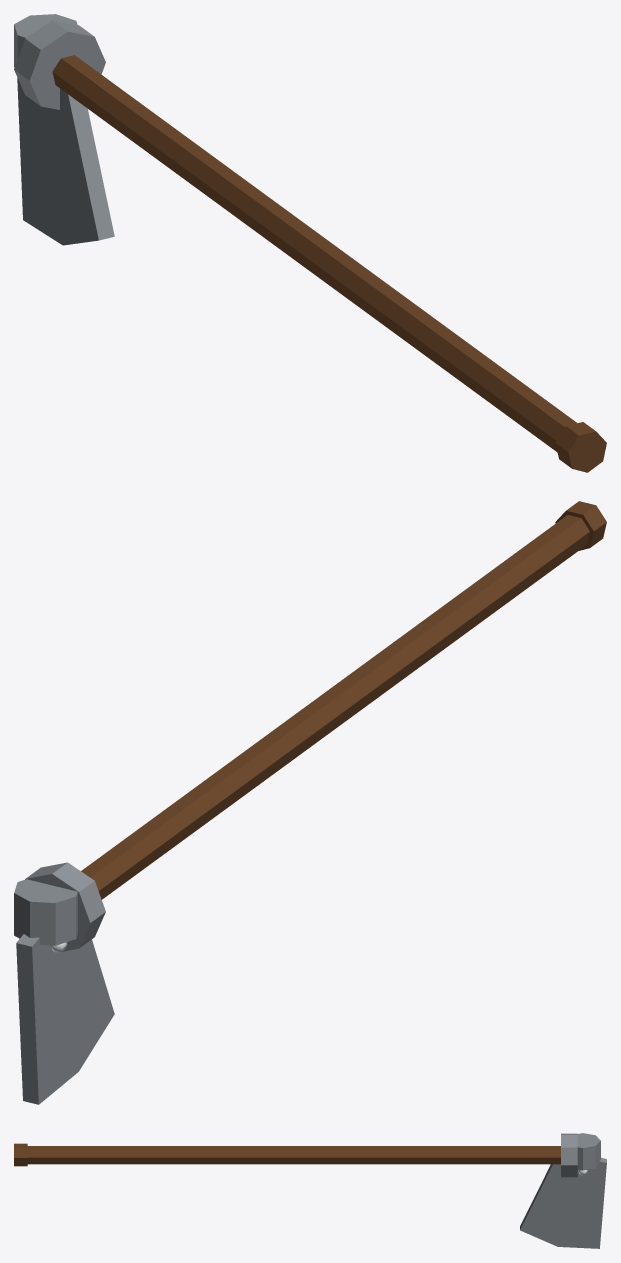
The model's file is Tool_Hoe_Iron.fbx.
3 views of the same model, one above another, from view 1: azimuth 30°, elevation 25°; view 2: azimuth 150°, elevation 25°; view 3: azimuth 270°, elevation 25° (orthographic). The views are drawn at different scales.
Parts seen in each view (by area): view 1: Tool_Hoe_Iron; view 2: Tool_Hoe_Iron; view 3: Tool_Hoe_Iron.
Part boxes in pixels (x1,y1,x2,y2): Tool_Hoe_Iron: (14,14,606,472); Tool_Hoe_Iron: (14,501,606,1104); Tool_Hoe_Iron: (14,1133,606,1248).
Bounding box in the file's own units: 0.0338 × 0.0902 × 0.4314.
